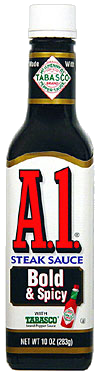grozi_112: (5, 4, 94, 371)
